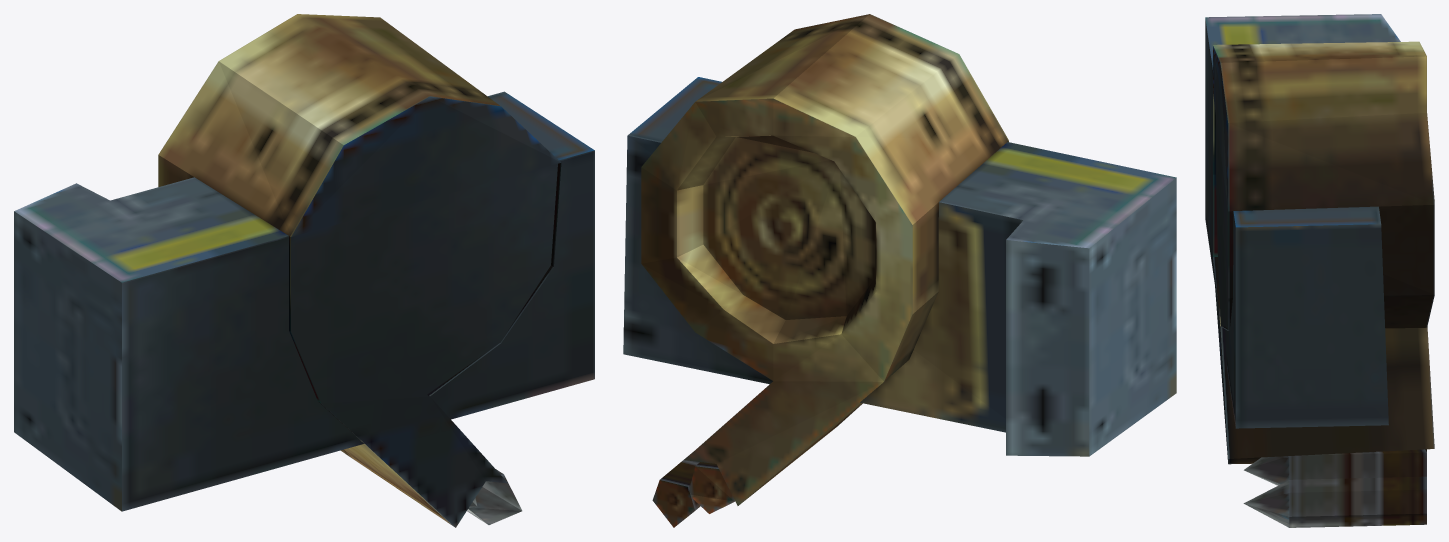
Rendered from XAAIRBPACK.obj.
The picture shows the model from 3 angles, left to right: view 1: azimuth 30°, elevation 25°; view 2: azimuth 150°, elevation 25°; view 3: azimuth 270°, elevation 25°; orthographic projection. The views are drawn at different scales.
Visible parts, largest first — view 1: Node 0; view 2: Node 0; view 3: Node 0.
Boxes of the visible parts, x1,y1,x2,y2 form: Node 0: (14,14,594,527); Node 0: (623,14,1176,527); Node 0: (1205,14,1434,527).
Bounding box in the file's own units: 0.66 × 0.61 × 0.3.
1 material, 1 textured.
